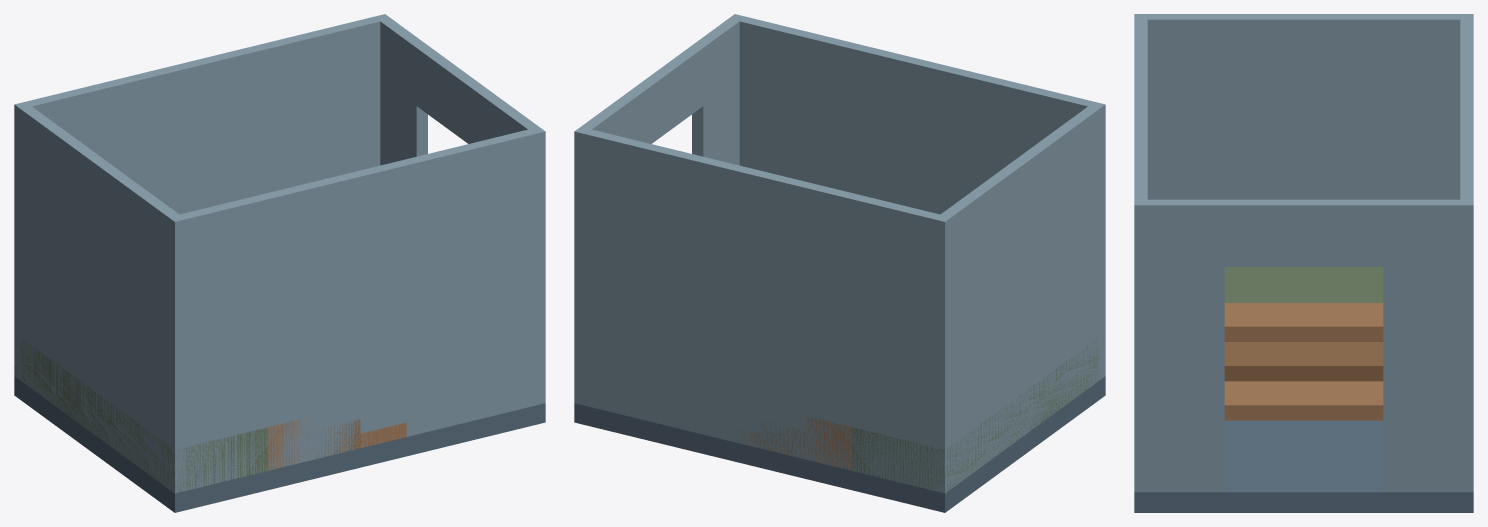
The model's file is room-stairs.glb.
3 views of the same model, side by side, from view 1: azimuth 30°, elevation 25°; view 2: azimuth 150°, elevation 25°; view 3: azimuth 270°, elevation 25° (orthographic). The views are drawn at different scales.
Parts seen in each view (by area): view 1: Stairs room south wall end, Stairs room west wall end, Stairs room north wall end, Stairs room Floor, Stairs room Raised Floor, Stairs room east wall segment 1, Stairs room east wall door 1 lintel, Stairs room east wall end, Stairs room Step 3 Floor, Stairs room Step 2 Floor, Stairs room Step 1 Floor; view 2: Stairs room north wall end, Stairs room west wall end, Stairs room south wall end, Stairs room Floor, Stairs room Raised Floor, Stairs room east wall end, Stairs room east wall door 1 lintel, Stairs room east wall segment 1, Stairs room Step 3 Floor; view 3: Stairs room west wall end, Stairs room east wall end, Stairs room east wall segment 1, Stairs room Floor, Stairs room east wall door 1 lintel, Stairs room north wall end, Stairs room south wall end, Stairs room Step 1 Floor, Stairs room Step 2 Floor, Stairs room Step 3 Floor, Stairs room Raised Floor.
Boxes of the visible parts, x1,y1,x2,y2 form: Stairs room south wall end: (168,127,545,493); Stairs room west wall end: (14,103,185,492); Stairs room north wall end: (14,14,390,380); Stairs room Floor: (14,376,545,512); Stairs room Raised Floor: (14,338,267,492); Stairs room east wall segment 1: (375,14,427,165); Stairs room east wall door 1 lintel: (416,45,502,143); Stairs room east wall end: (491,100,545,405); Stairs room Step 3 Floor: (267,417,312,470); Stairs room Step 2 Floor: (315,419,360,458); Stairs room Step 1 Floor: (360,422,406,448); Stairs room north wall end: (574,127,951,493); Stairs room west wall end: (934,104,1105,493); Stairs room south wall end: (729,14,1105,380); Stairs room Floor: (574,376,1105,512); Stairs room Raised Floor: (852,338,1099,492); Stairs room east wall end: (692,15,744,165); Stairs room east wall door 1 lintel: (617,45,703,143); Stairs room east wall segment 1: (574,100,628,400); Stairs room Step 3 Floor: (806,416,852,470); Stairs room west wall end: (1134,14,1473,199); Stairs room east wall end: (1134,199,1224,492); Stairs room east wall segment 1: (1383,199,1473,492); Stairs room Floor: (1134,420,1473,512); Stairs room east wall door 1 lintel: (1224,199,1383,266); Stairs room north wall end: (1460,14,1473,492); Stairs room south wall end: (1134,14,1147,492); Stairs room Step 1 Floor: (1224,381,1383,420); Stairs room Step 2 Floor: (1224,342,1383,381); Stairs room Step 3 Floor: (1224,303,1383,341); Stairs room Raised Floor: (1224,267,1383,302).
Size of the model in its own units: 4 by 3 by 3.
